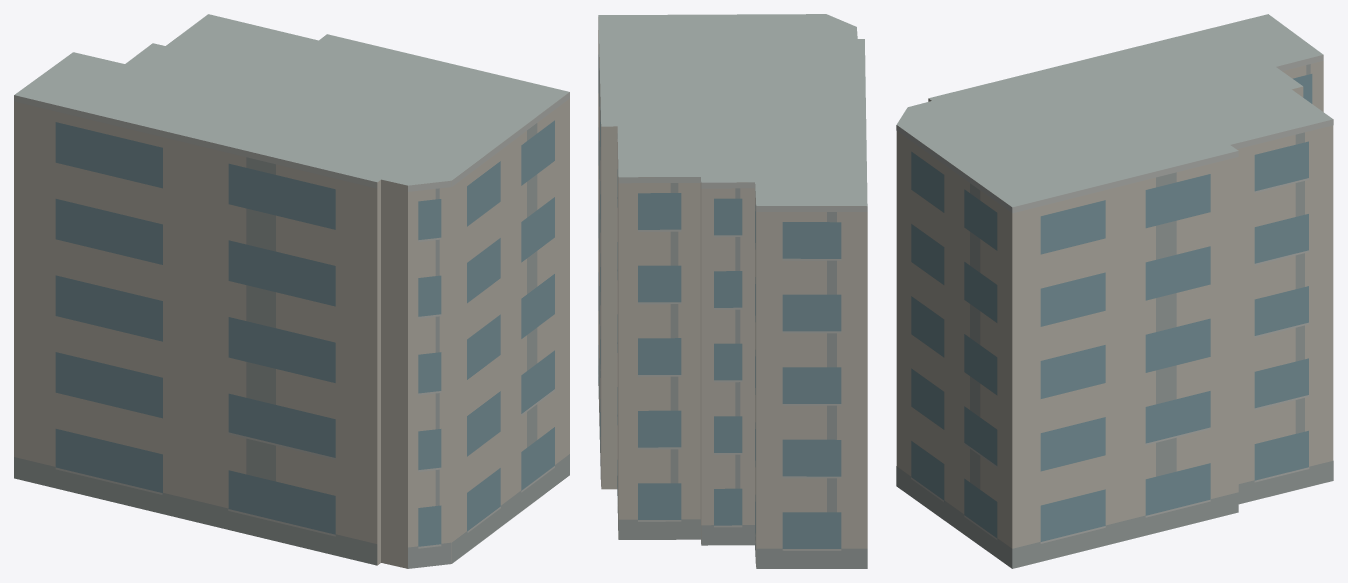
File: survey-upis-33026279.glb
3 views of the same model, side by side, from view 1: azimuth 30°, elevation 25°; view 2: azimuth 150°, elevation 25°; view 3: azimuth 270°, elevation 25° (orthographic). The views are drawn at different scales.
Visible parts, largest first — view 1: survey-upis-33026279.tmp; view 2: survey-upis-33026279.tmp; view 3: survey-upis-33026279.tmp.
Boxes of the visible parts, x1,y1,x2,y2 form: survey-upis-33026279.tmp: (14,14,569,568); survey-upis-33026279.tmp: (598,14,867,568); survey-upis-33026279.tmp: (896,14,1333,568).
Size of the model in its own units: 16.92 by 14.75 by 16.17.
